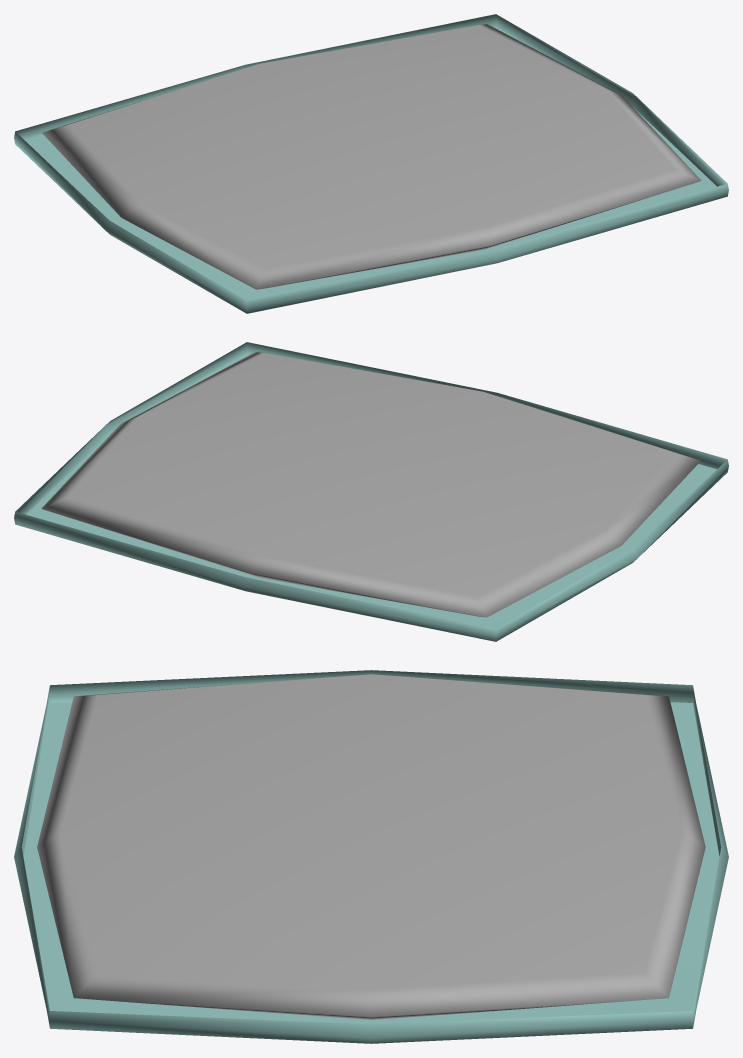
The model's file is pressure_plate.fbx.
The picture shows the model from 3 angles, top to bottom: view 1: azimuth 30°, elevation 25°; view 2: azimuth 150°, elevation 25°; view 3: azimuth 270°, elevation 25°; orthographic projection. The views are drawn at different scales.
Visible parts, largest first — view 1: polySurface1; view 2: polySurface1; view 3: polySurface1.
Boxes of the visible parts, <box> form: polySurface1: <box>14,14,728,313</box>; polySurface1: <box>14,342,728,641</box>; polySurface1: <box>14,670,728,1043</box>.
Size of the model in its own units: 209 by 11.04 by 175.
